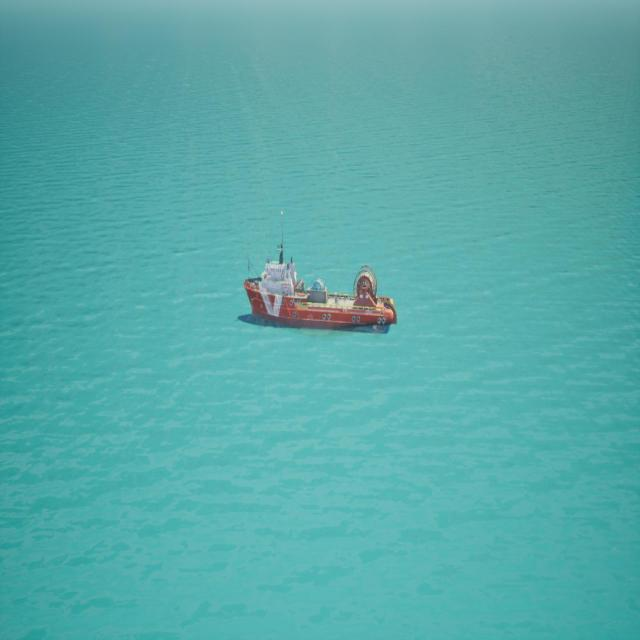tug boat: (241, 219, 399, 340)
